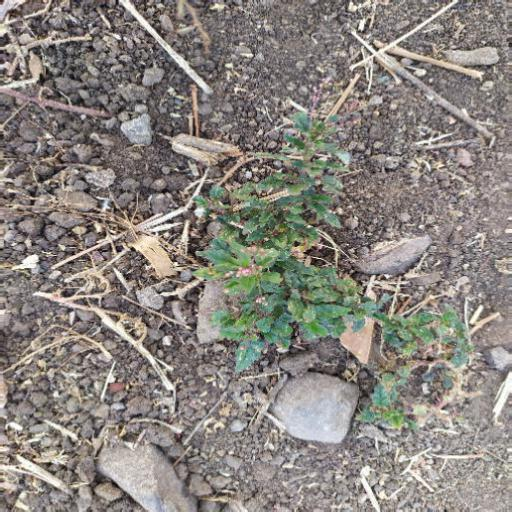weed: (196, 90, 482, 413)
